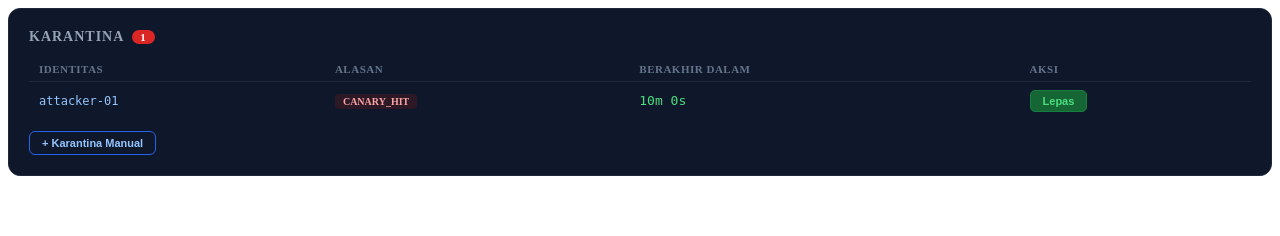
Scenario: QuarantineTable › shows error banner when release fails
This screenshot has width=1280, height=236.
Click the button "Lepas" at [1058, 101], box [1030,90,1087,112]
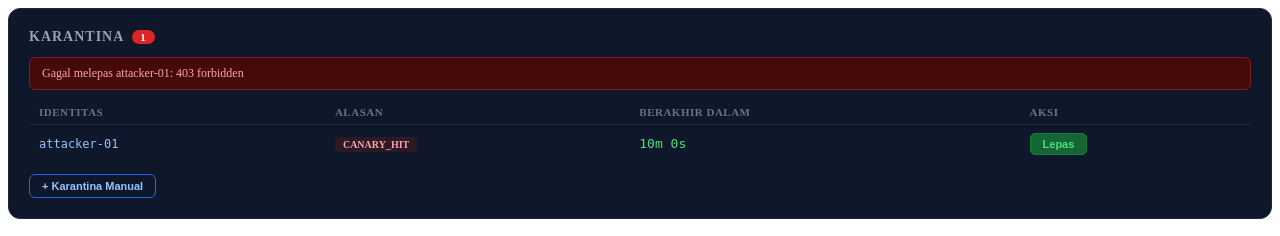
Expected: the text "Gagal melepas attacker-01: 403 forbidden" is shown, [29,57,1251,90]
